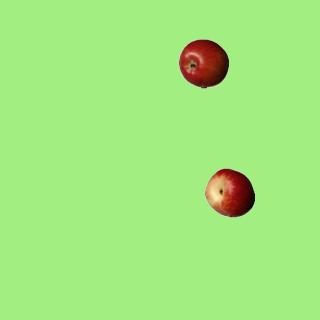Apple Braeburn: (178, 38, 228, 88)
Nectarine: (204, 167, 254, 217)
